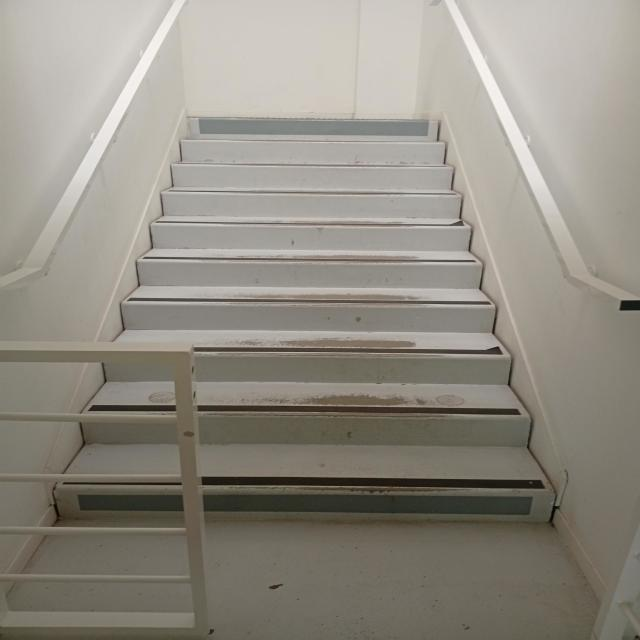Stairs: (103, 158, 515, 384)
